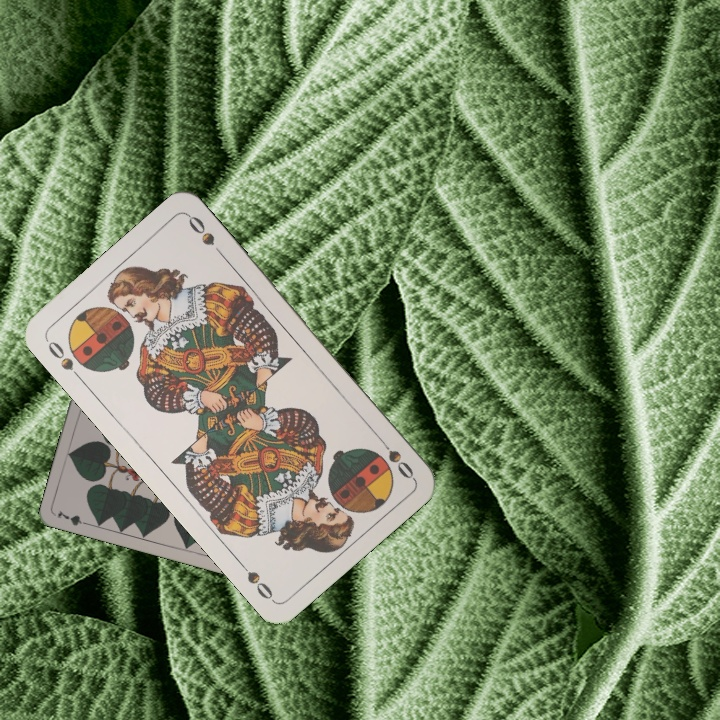G7: (53, 506, 93, 528)
SO: (373, 431, 417, 482), (42, 335, 85, 384)
